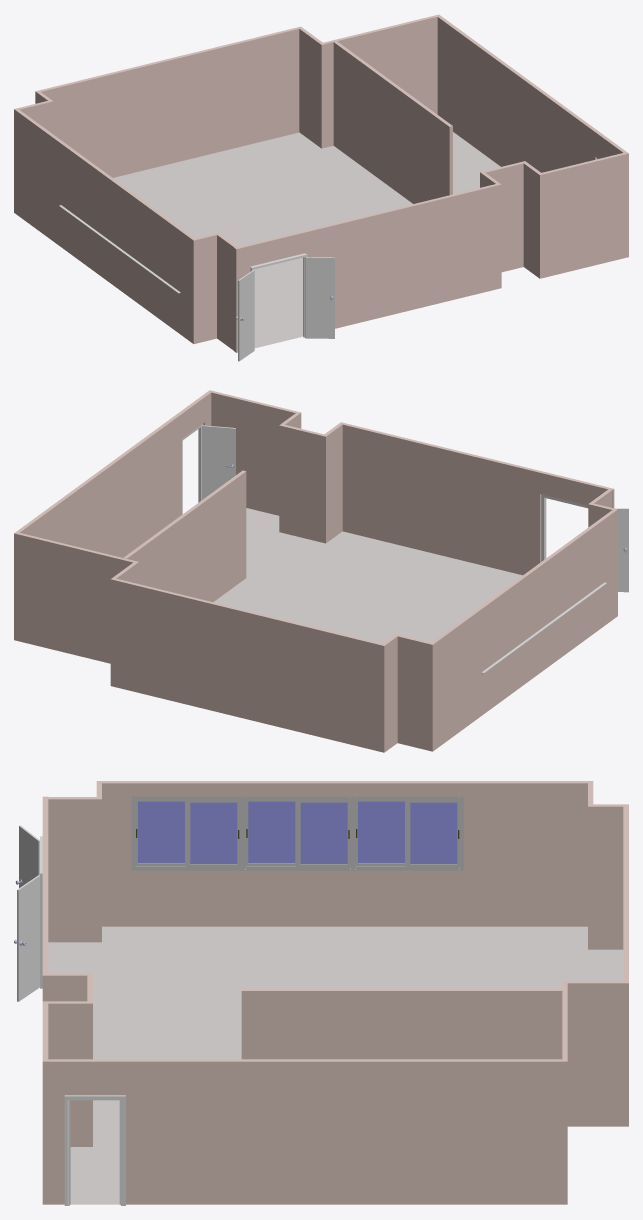
The model's file is 学生ホール 5.fbx.
3 views of the same model, one above another, from view 1: azimuth 30°, elevation 25°; view 2: azimuth 150°, elevation 25°; view 3: azimuth 270°, elevation 25° (orthographic). The views are drawn at different scales.
Parts seen in each view (by area): view 1: Room.001, Floor, Room, Door.001, Door, DoorFrame; view 2: Room.001, Floor, Room, Door.002, Door; view 3: Room.001, Floor, Room, Window.R.001, Window.R.002, Window.R, Window.L.001, Window.L, Window.L.002, Door.001, DoorFrame.001, WindowFrame (+3 smaller).
Part boxes in pixels (x1,y1,x2,y2): Room.001: [14, 14, 628, 352]; Floor: [113, 132, 500, 348]; Room: [333, 41, 452, 203]; Door.001: [305, 257, 334, 338]; Door: [238, 270, 254, 361]; DoorFrame: [250, 253, 307, 337]; Room.001: [14, 390, 617, 752]; Floor: [213, 508, 522, 643]; Room: [123, 470, 246, 601]; Door.002: [198, 425, 235, 502]; Door: [614, 508, 628, 592]; Room.001: [42, 781, 628, 1204]; Floor: [48, 926, 623, 1204]; Room: [241, 988, 562, 1059]; Window.R.001: [295, 799, 350, 867]; Window.R.002: [405, 799, 459, 867]; Window.R: [185, 799, 239, 867]; Window.L.001: [245, 799, 295, 866]; Window.L: [135, 799, 185, 866]; Window.L.002: [355, 799, 405, 866]; Door.001: [17, 875, 39, 1001]; DoorFrame.001: [64, 1095, 125, 1205]; WindowFrame: [131, 796, 243, 870].
Size of the model in its own units: 1094 by 261 by 1004.
